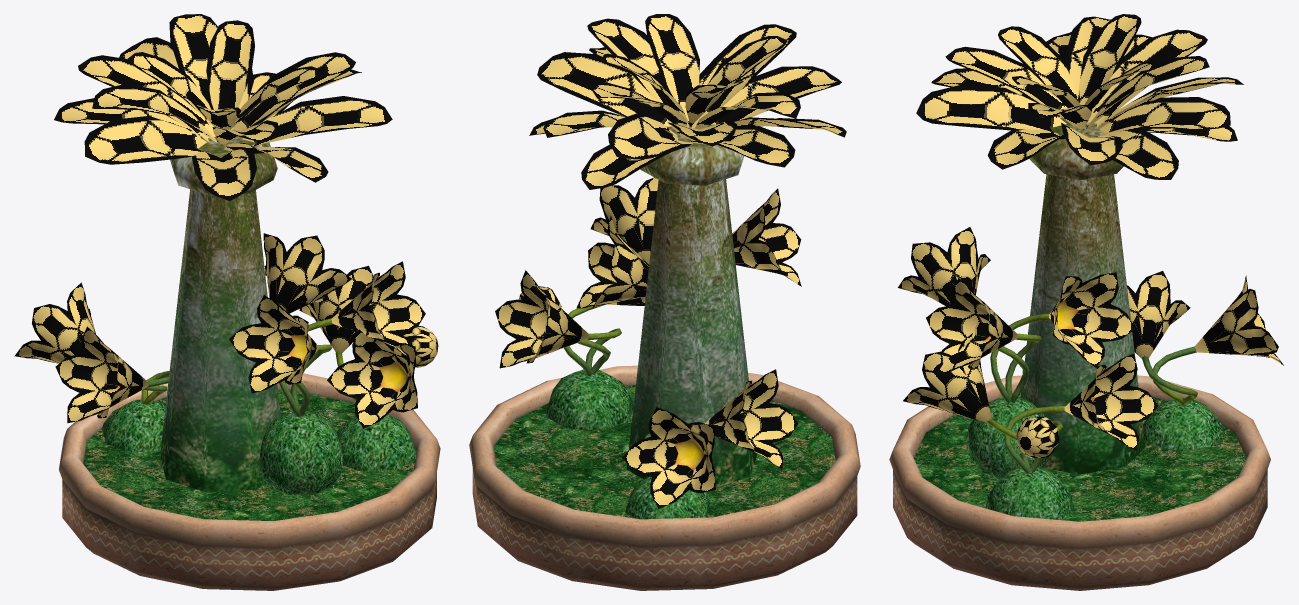
The model's file is pot_medium_2.fbx.
The picture shows the model from 3 angles, left to right: view 1: azimuth 30°, elevation 25°; view 2: azimuth 150°, elevation 25°; view 3: azimuth 270°, elevation 25°; orthographic projection. The views are drawn at different scales.
Visible parts, largest first — view 1: JUN_TREE_A_NOCOLI; view 2: JUN_TREE_A_NOCOLI; view 3: JUN_TREE_A_NOCOLI.
Boxes of the visible parts, left/top/right/bottom form: JUN_TREE_A_NOCOLI: left=14, top=14, right=440, bottom=590; JUN_TREE_A_NOCOLI: left=469, top=14, right=860, bottom=590; JUN_TREE_A_NOCOLI: left=889, top=14, right=1283, bottom=590.
Size of the model in its own units: 258 by 339 by 265.
